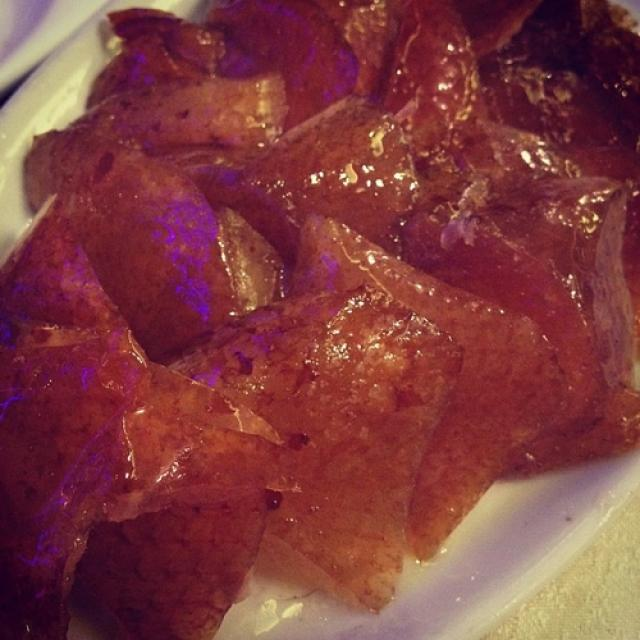烧串烤肉: (18, 18, 619, 613)
